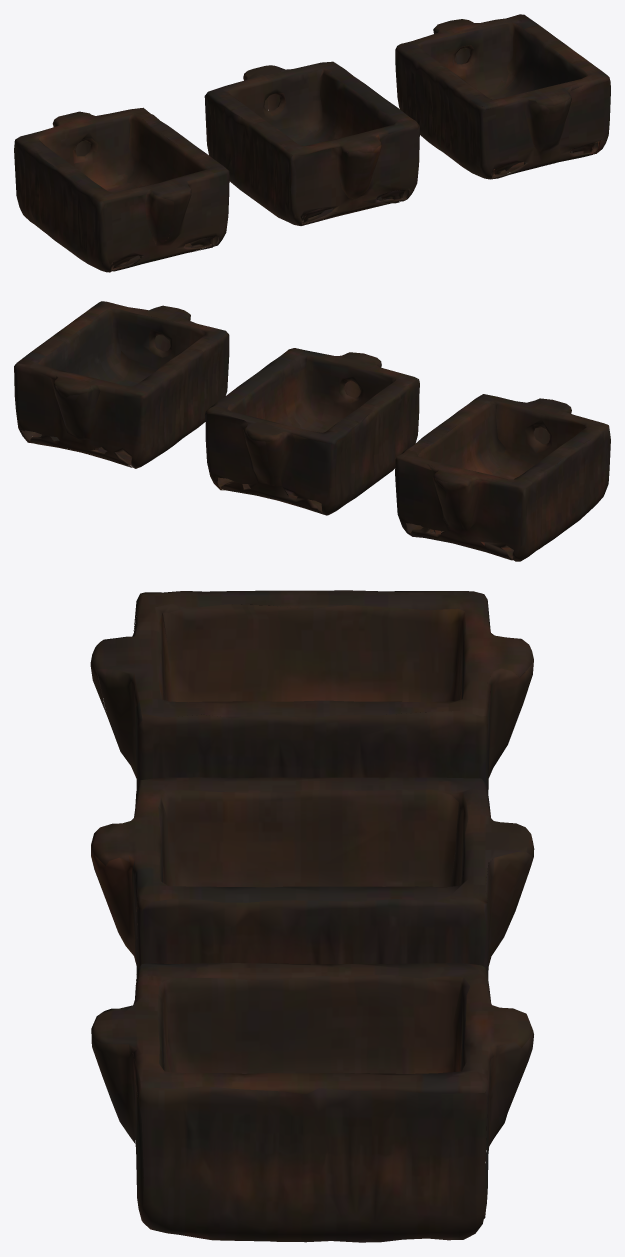
Rendered from molde_lingote.glb.
The picture shows the model from 3 angles, top to bottom: view 1: azimuth 30°, elevation 25°; view 2: azimuth 150°, elevation 25°; view 3: azimuth 270°, elevation 25°; orthographic projection. The views are drawn at different scales.
Visible parts, largest first — view 1: geometry_0; view 2: geometry_0; view 3: geometry_0.
Boxes of the visible parts, bbox=[...] form: geometry_0: bbox=[14, 14, 610, 272]; geometry_0: bbox=[14, 301, 610, 561]; geometry_0: bbox=[90, 590, 534, 1242].
Size of the model in its own units: 1.6 by 0.2503 by 0.6.
1 material, 1 textured.
